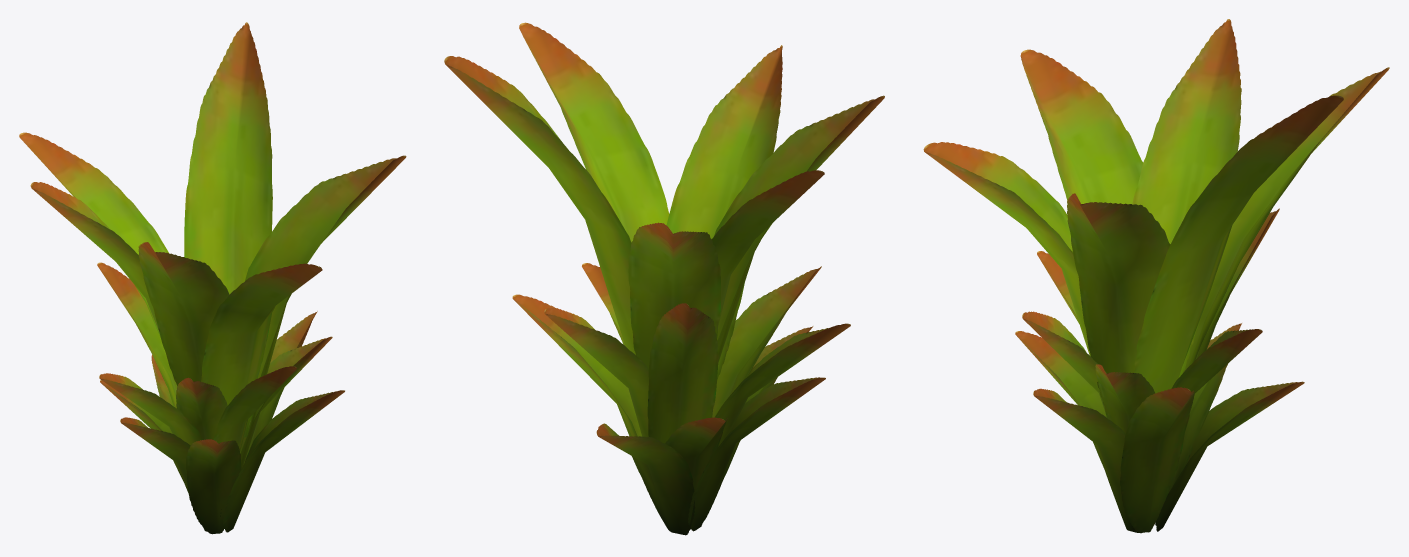
File: Plant_1_Big.glb
3 views of the same model, side by side, from view 1: azimuth 30°, elevation 25°; view 2: azimuth 150°, elevation 25°; view 3: azimuth 270°, elevation 25° (orthographic). The views are drawn at different scales.
Parts seen in each view (by area): view 1: Plant_1_Big; view 2: Plant_1_Big; view 3: Plant_1_Big.
Boxes of the visible parts, bbox=[...] form: Plant_1_Big: bbox=[19, 22, 406, 534]; Plant_1_Big: bbox=[444, 22, 884, 535]; Plant_1_Big: bbox=[923, 19, 1389, 533].
Size of the model in its own units: 1.81 by 2.35 by 1.95.
Materials: 1 (1 with a texture image).
